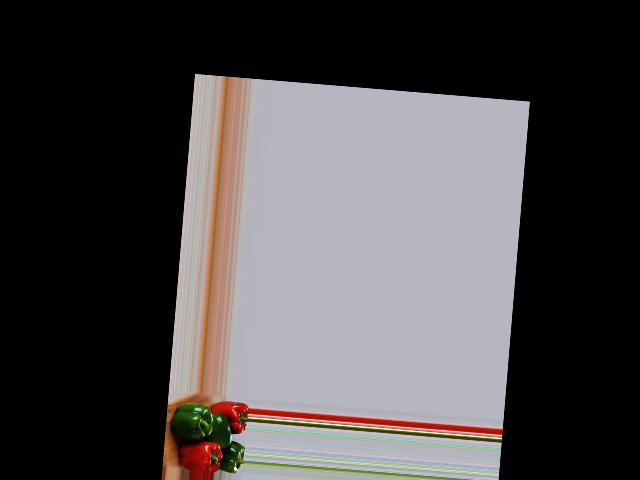bell_pepper: (173, 436, 222, 472)
